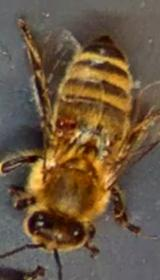varroa_mite: (52, 110, 76, 137)
